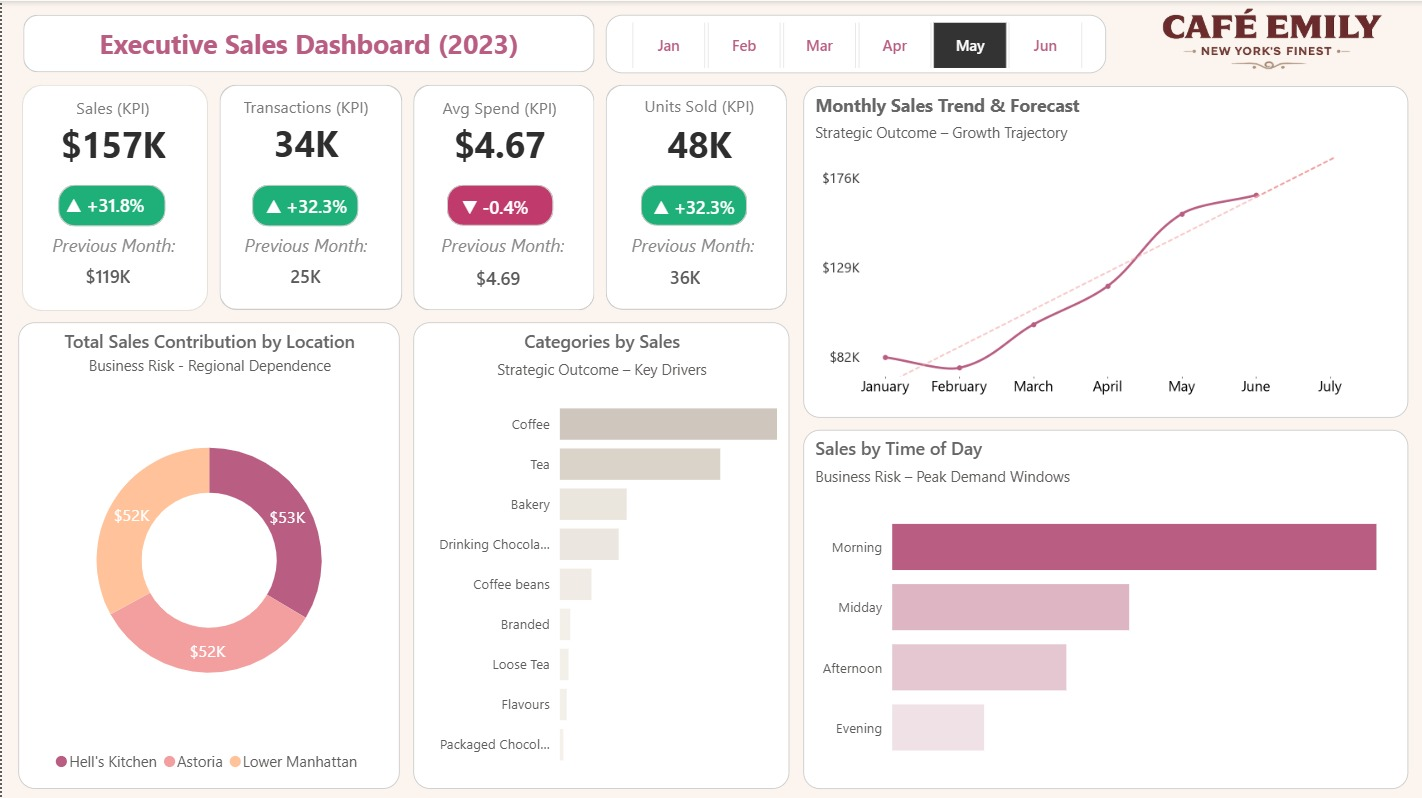

This screenshot's page, from the dashboard's own definition file:
{"tool":"powerbi","page":{"name":"Executive Page","canvas":[1280,720],"ordinal":0},"visuals":[{"type":"group","id":"g1","title":"Sales KPI","box":[14.8,74.5,171.8,205],"z":0},{"type":"shape","title":"KPI Tile","box":[18.7,75.4,167.9,204.1],"z":0,"group":"g1"},{"type":"shape","title":"KPI Tile","box":[370.5,75.7,163.5,203.5],"z":0,"group":"g3"},{"type":"shape","title":"KPI Tile","box":[196.1,75.9,164.9,203.1],"z":0,"group":"g2"},{"type":"shape","title":"KPI Tile","box":[543.5,76,163.5,203],"z":0,"group":"g5"},{"type":"shape","title":"Change Bkg","box":[575,166.3,96,37],"z":0,"group":"g6"},{"type":"shape","title":"Prev Month","box":[17.8,195.6,165.2,48.4],"z":0,"group":"g7"},{"type":"shape","title":"Prev Month","box":[378.9,196.2,145.8,47.2],"z":0,"group":"g8"},{"type":"shape","title":"Prev Month","box":[566.9,196.2,112,46.8],"z":0,"group":"g4"},{"type":"cardVisual","fields":{"Data":["coffee-shop-sales-revenue.Total Units"]},"box":[534.9,73.8,187.8,87.7],"z":1000,"group":"g5"},{"type":"cardVisual","fields":{"Data":["coffee-shop-sales-revenue.Total Sales KPI"]},"box":[14.8,74.5,171.3,86.1],"z":1000,"group":"g1"},{"type":"group","id":"g2","title":"Transactions KPI","box":[192.1,75.9,168.9,203.1],"z":1000},{"type":"cardVisual","fields":{"Data":["coffee-shop-sales-revenue.Total Trans. KPI"]},"box":[192.1,77.2,165.3,80.8],"z":1000,"group":"g2"},{"type":"cardVisual","fields":{"Data":["coffee-shop-sales-revenue.Transactions MoM Label"]},"box":[576.1,163,94.7,44],"z":1000,"group":"g6"},{"type":"shape","title":"Change Bkg","box":[400.4,166.3,96,37],"z":1000,"group":"g3"},{"type":"cardVisual","fields":{"Data":["coffee-shop-sales-revenue.Previous Month AOV"]},"box":[403.4,222,114.6,51.1],"z":1000,"group":"g8"},{"type":"cardVisual","fields":{"Data":["coffee-shop-sales-revenue.Previous Month Units"]},"box":[578.6,222.3,88.6,50.5],"z":1000,"group":"g4"},{"type":"cardVisual","fields":{"Data":["coffee-shop-sales-revenue.Last Month Revenue"]},"box":[31.5,225.9,129,43],"z":1000,"group":"g7"},{"type":"group","id":"g3","title":"Avg Spend KPI","box":[347.9,74.5,201.7,204.7],"z":2000},{"type":"shape","title":"Change Bkg","box":[50.4,165.9,96.7,37.6],"z":2000,"group":"g1"},{"type":"shape","title":"Change Bkg","box":[225.7,166,96,37.6],"z":2000,"group":"g2"},{"type":"cardVisual","fields":{"Data":["coffee-shop-sales-revenue.AOV MoM Label1"]},"box":[410,167.5,69.9,32.7],"z":2000,"group":"g3"},{"type":"group","id":"g4","title":"Prev Month","box":[566.9,196.2,112,76.5],"z":2000,"group":"g5"},{"type":"group","id":"g5","title":"Units Sold KPI","box":[534.9,73.8,187.8,205.2],"z":2500},{"type":"slicer","title":"Month Slicer","fields":{"Values":["coffee-shop-sales-revenue.Month"]},"box":[544.1,12.1,451.2,53.1],"z":3000},{"type":"cardVisual","fields":{"Data":["coffee-shop-sales-revenue.AOV"]},"box":[347.9,74.5,201.7,86.3],"z":3000,"group":"g3"},{"type":"cardVisual","fields":{"Data":["coffee-shop-sales-revenue.Revenue Arrow"]},"box":[54.5,159.6,78.9,46.2],"z":3000,"group":"g1"},{"type":"group","id":"g6","title":"Group 1","box":[575,163,96,44],"z":3000,"group":"g5"},{"type":"cardVisual","fields":{"Data":["coffee-shop-sales-revenue.Transactions MoM Label"]},"box":[235.9,167.3,78.9,32.7],"z":3000,"group":"g2"},{"type":"group","id":"g7","title":"Prev Month","box":[17.8,195.6,165.2,73.3],"z":4000,"group":"g1"},{"type":"shape","title":"Prev Month","box":[200.2,195.6,149.1,48.4],"z":4000,"group":"g2"},{"type":"group","id":"g8","title":"Prev Month","box":[378.9,196.2,145.8,76.8],"z":4000,"group":"g3"},{"type":"barChart","title":"Categories by Sales","fields":{"Category":["coffee-shop-sales-revenue.product_category"],"Y":["coffee-shop-sales-revenue.Total Revenue"]},"box":[370.4,289.5,339,421],"z":4000},{"type":"pythonVisual","title":"Monthly Sales Trend & Forecast","fields":{"Values":["Sum(coffee-shop-sales-revenue.Revenue)","coffee-shop-sales-revenue.transaction_date"]},"box":[722.8,76.6,545.4,299.6],"z":5000},{"type":"cardVisual","fields":{"Data":["coffee-shop-sales-revenue.Previous Month Transactions"]},"box":[210.3,226.6,129,41.6],"z":5000,"group":"g2"},{"type":"barChart","title":"Sales by Time of Day","fields":{"Category":["coffee-shop-sales-revenue.Time of Day"],"Y":["Divide(coffee-shop-sales-revenue.Total Revenue, ScopedEval(coffee-shop-sales-revenue.Total Revenue, []))"]},"box":[722.8,386.9,545.4,323.8],"z":6000},{"type":"donutChart","title":"Total Sales Contribution by Location","fields":{"Y":["coffee-shop-sales-revenue.Total Revenue"],"Category":["coffee-shop-sales-revenue.store_location"]},"box":[14.5,289.5,343.8,421],"z":7000},{"type":"image","box":[1014.2,6.2,265.8,62.8],"z":8000},{"type":"shape","title":"Title","box":[19.3,12.1,515.2,51.9],"z":9000}]}

Visuals, with their boxes in screenshot pixels (x1, y1, x2, y2), scaled from the page's 1280x720 canvas onto the 1422x798 screenshot:
"Sales KPI" group: x1=16, y1=83, x2=207, y2=310
"KPI Tile" shape: x1=21, y1=84, x2=207, y2=310
"KPI Tile" shape: x1=412, y1=84, x2=593, y2=309
"KPI Tile" shape: x1=218, y1=84, x2=401, y2=309
"KPI Tile" shape: x1=604, y1=84, x2=785, y2=309
"Change Bkg" shape: x1=639, y1=184, x2=745, y2=225
"Prev Month" shape: x1=20, y1=217, x2=203, y2=270
"Prev Month" shape: x1=421, y1=217, x2=583, y2=270
"Prev Month" shape: x1=630, y1=217, x2=754, y2=269
cardVisual - coffee-shop-sales-revenue.Total Units: x1=594, y1=82, x2=803, y2=179
cardVisual - coffee-shop-sales-revenue.Total Sales KPI: x1=16, y1=83, x2=207, y2=178
"Transactions KPI" group: x1=213, y1=84, x2=401, y2=309
cardVisual - coffee-shop-sales-revenue.Total Trans. KPI: x1=213, y1=86, x2=397, y2=175
cardVisual - coffee-shop-sales-revenue.Transactions MoM Label: x1=640, y1=181, x2=745, y2=229
"Change Bkg" shape: x1=445, y1=184, x2=551, y2=225
cardVisual - coffee-shop-sales-revenue.Previous Month AOV: x1=448, y1=246, x2=575, y2=303
cardVisual - coffee-shop-sales-revenue.Previous Month Units: x1=643, y1=246, x2=741, y2=302
cardVisual - coffee-shop-sales-revenue.Last Month Revenue: x1=35, y1=250, x2=178, y2=298
"Avg Spend KPI" group: x1=386, y1=83, x2=611, y2=309
"Change Bkg" shape: x1=56, y1=184, x2=163, y2=226
"Change Bkg" shape: x1=251, y1=184, x2=357, y2=226
cardVisual - coffee-shop-sales-revenue.AOV MoM Label1: x1=455, y1=186, x2=533, y2=222
"Prev Month" group: x1=630, y1=217, x2=754, y2=302
"Units Sold KPI" group: x1=594, y1=82, x2=803, y2=309
"Month Slicer" slicer: x1=604, y1=13, x2=1106, y2=72
cardVisual - coffee-shop-sales-revenue.AOV: x1=386, y1=83, x2=611, y2=178
cardVisual - coffee-shop-sales-revenue.Revenue Arrow: x1=61, y1=177, x2=148, y2=228
"Group 1" group: x1=639, y1=181, x2=745, y2=229
cardVisual - coffee-shop-sales-revenue.Transactions MoM Label: x1=262, y1=185, x2=350, y2=222
"Prev Month" group: x1=20, y1=217, x2=203, y2=298
"Prev Month" shape: x1=222, y1=217, x2=388, y2=270
"Prev Month" group: x1=421, y1=217, x2=583, y2=303
"Categories by Sales" barChart: x1=411, y1=321, x2=788, y2=787
"Monthly Sales Trend & Forecast" pythonVisual: x1=803, y1=85, x2=1409, y2=417
cardVisual - coffee-shop-sales-revenue.Previous Month Transactions: x1=234, y1=251, x2=377, y2=297
"Sales by Time of Day" barChart: x1=803, y1=429, x2=1409, y2=788
"Total Sales Contribution by Location" donutChart: x1=16, y1=321, x2=398, y2=787
image: x1=1127, y1=7, x2=1421, y2=76
"Title" shape: x1=21, y1=13, x2=594, y2=71
